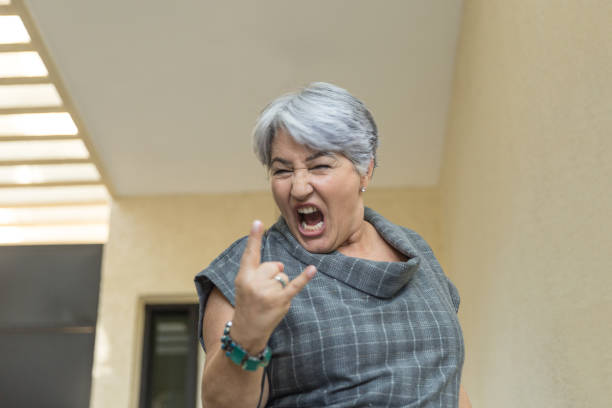Rock On: (232, 214, 318, 361)
